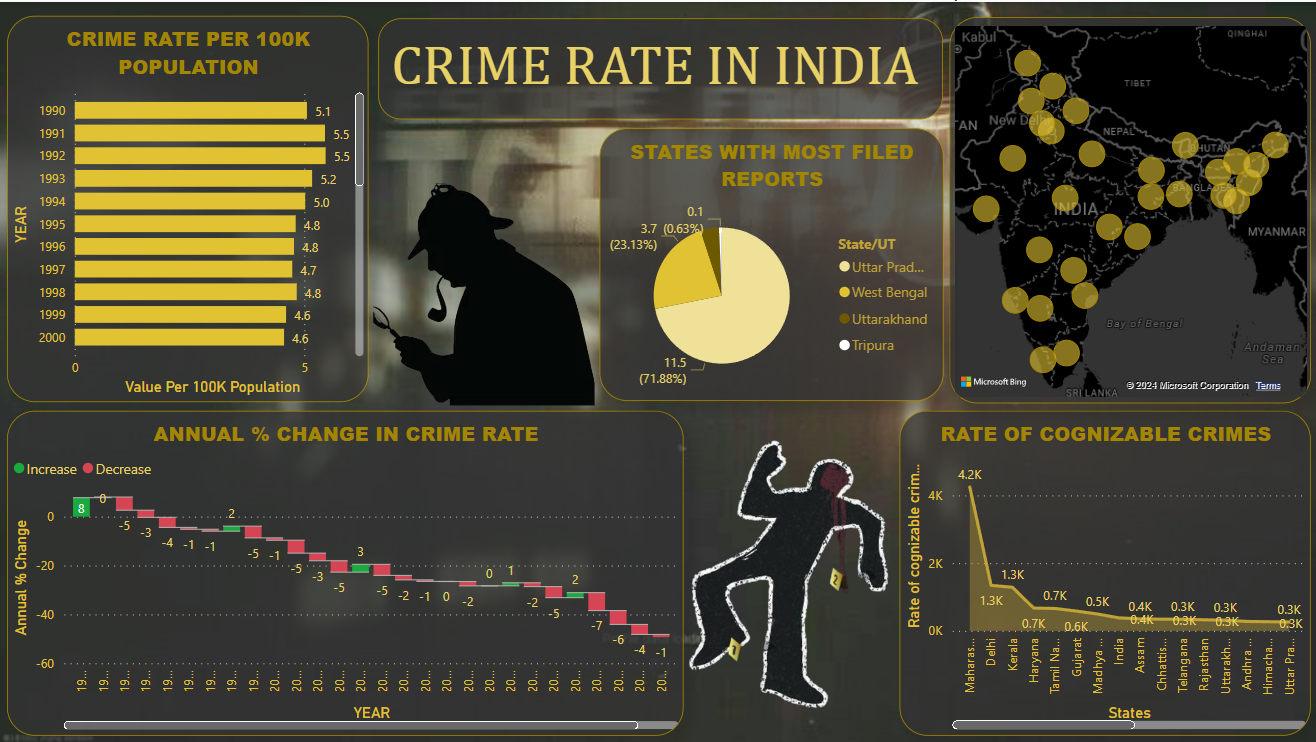

Layout of this report page (visuals, bound fields, positions):
{"tool":"powerbi","page":{"name":"INDIA CRIME TREND","canvas":[1280,720],"ordinal":0},"visuals":[{"type":"barChart","title":"CRIME RATE PER 100K POPULATION","fields":{"Category":["yearly analysis.date.Variation.Date Hierarchy.Year"],"Y":["Avg(yearly analysis. Per 100K Population)"]},"box":[9.6,13.3,348.5,372.7],"z":0},{"type":"waterfallChart","title":"ANNUAL % CHANGE IN CRIME RATE","fields":{"Category":["yearly analysis.date.Variation.Date Hierarchy.Year"],"Y":["Sum(yearly analysis. Annual % Change)"]},"box":[9.6,394.4,652.5,313.6],"z":1000},{"type":"image","box":[601.8,385.9,302.7,334.1],"z":2000},{"type":"textbox","box":[367.8,15.7,545.1,97.7],"z":3000},{"type":"areaChart","title":"RATE OF COGNIZABLE CRIMES","fields":{"Category":["en.State/UT"],"Y":["Sum(en.Rate of cognizable crimes)"]},"box":[870.8,394.4,396.8,313.6],"z":4000},{"type":"map","title":"CRIME RATE PER 100K POPULATION","fields":{"Size":["Avg(yearly analysis. Per 100K Population)"],"Category":["en.State/UT"]},"box":[919,14.5,348.5,372.7],"z":5000},{"type":"pieChart","title":"STATES WITH MOST FILED REPORTS","fields":{"Y":["Sum(en.Percentage share of state/UT (2018))"],"Category":["en.State/UT"]},"box":[581.3,121.8,331.7,262.9],"z":6000},{"type":"image","box":[358.2,170.1,223.1,224.3],"z":7000}]}

Visuals, with their boxes in screenshot pixels (x1, y1, x2, y2), scaled from the page's 1280x720 canvas onto the 1316x742 screenshot:
"CRIME RATE PER 100K POPULATION" barChart: pyautogui.locateOnScreen(10, 14, 368, 398)
"ANNUAL % CHANGE IN CRIME RATE" waterfallChart: pyautogui.locateOnScreen(10, 406, 681, 730)
image: pyautogui.locateOnScreen(619, 398, 930, 741)
textbox: pyautogui.locateOnScreen(378, 16, 939, 117)
"RATE OF COGNIZABLE CRIMES" areaChart: pyautogui.locateOnScreen(895, 406, 1303, 730)
"CRIME RATE PER 100K POPULATION" map: pyautogui.locateOnScreen(945, 15, 1303, 399)
"STATES WITH MOST FILED REPORTS" pieChart: pyautogui.locateOnScreen(598, 126, 939, 396)
image: pyautogui.locateOnScreen(368, 175, 598, 406)
